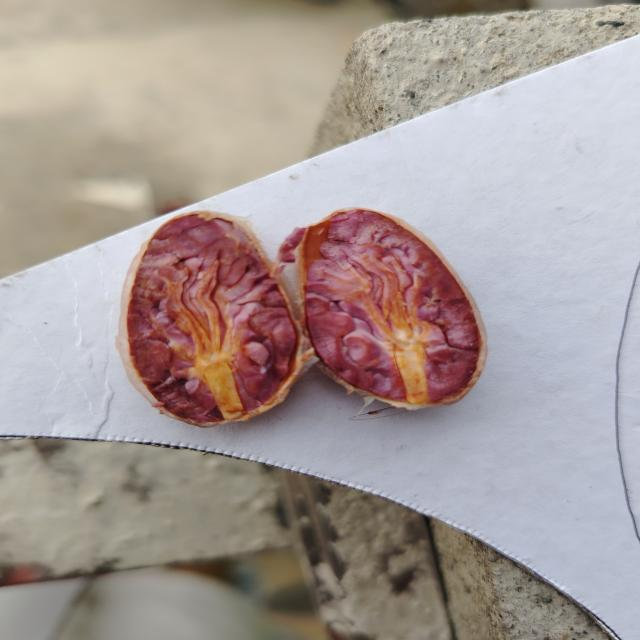Forastero: (128, 214, 299, 423), (306, 208, 479, 403)
